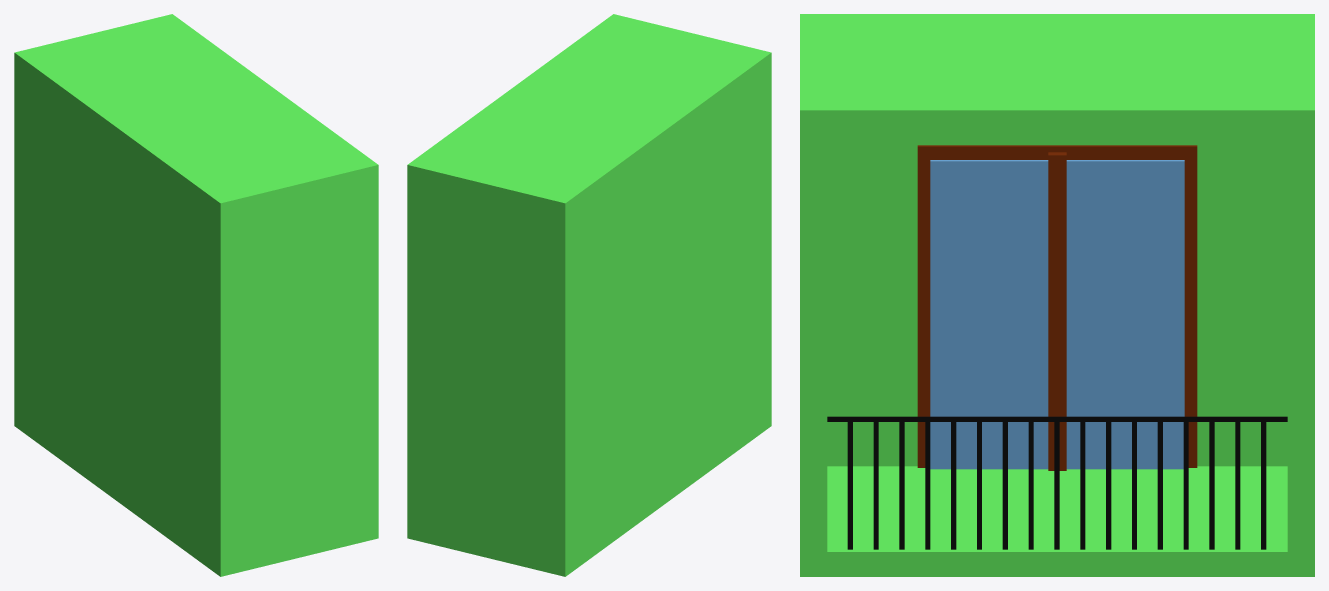
File: balcony1.fbx
The picture shows the model from 3 angles, left to right: view 1: azimuth 30°, elevation 25°; view 2: azimuth 150°, elevation 25°; view 3: azimuth 270°, elevation 25°; orthographic projection. The views are drawn at different scales.
Parts seen in each view (by area): view 1: Cube.003; view 2: Cube.003; view 3: Cube.003, Cube, Cube.004, Cube.001, Cube.002, Cube.005.
Boxes of the visible parts, x1,y1,x2,y2 form: Cube.003: [14, 14, 378, 576]; Cube.003: [407, 14, 771, 576]; Cube.003: [800, 14, 1314, 576]; Cube: [930, 160, 1184, 469]; Cube.004: [847, 421, 1266, 549]; Cube.001: [917, 145, 1197, 467]; Cube.002: [1048, 152, 1066, 470]; Cube.005: [827, 416, 1287, 421].
Size of the model in its own units: 88.52 by 200 by 200.
